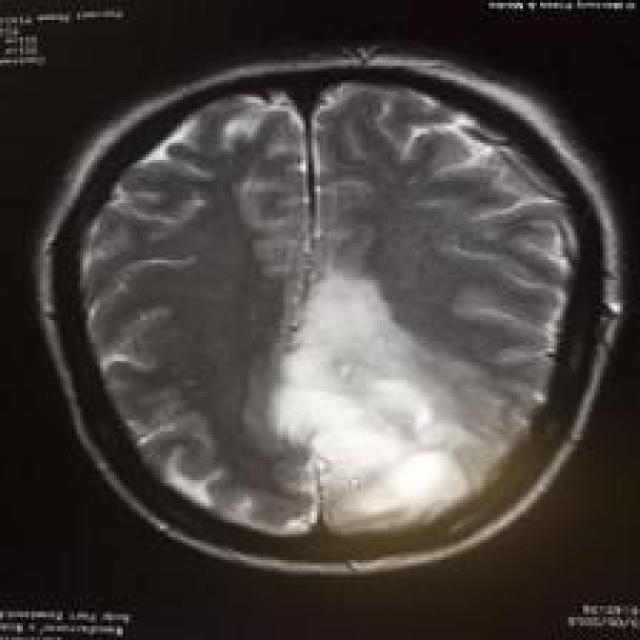Tumor: (283, 274, 471, 509)
